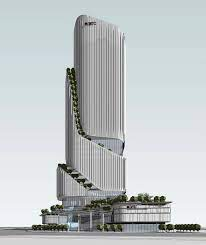high_rise_building: (54, 10, 133, 201)
